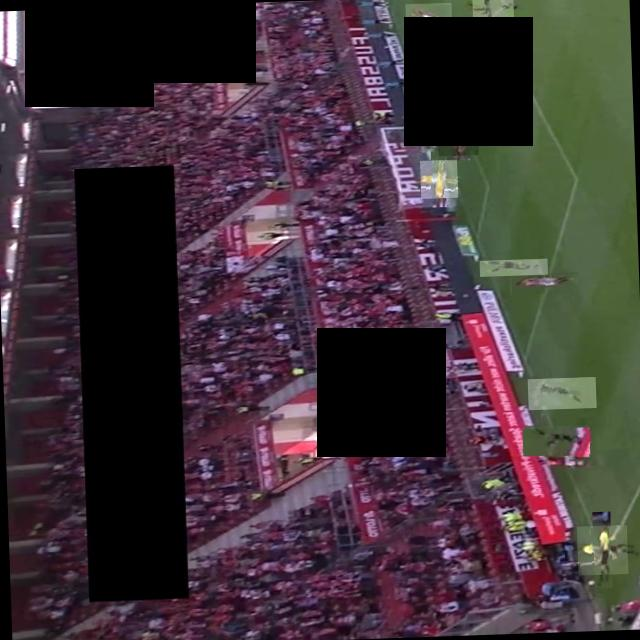goalkeeper: (418, 160, 456, 198)
referee: (575, 524, 627, 576)
soccer-player: (526, 376, 595, 409), (521, 425, 589, 458), (437, 114, 478, 156), (508, 272, 578, 294), (409, 60, 460, 88), (404, 2, 451, 31), (478, 258, 547, 276), (470, 0, 512, 22)
